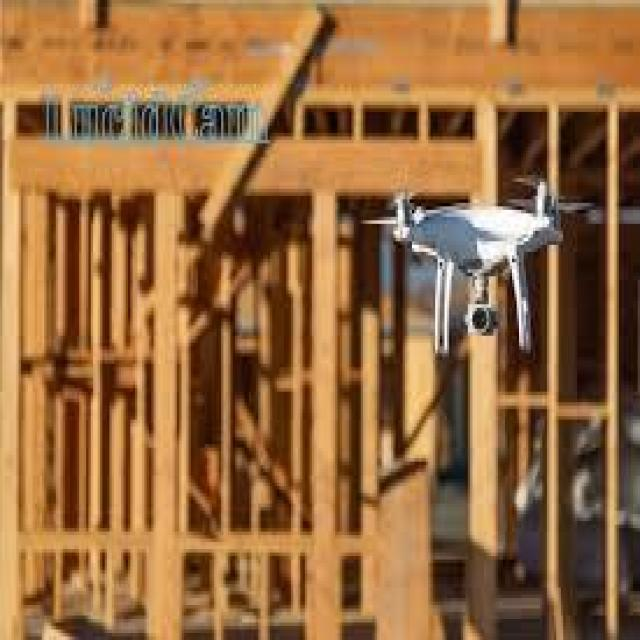drones: (364, 186, 566, 366)
